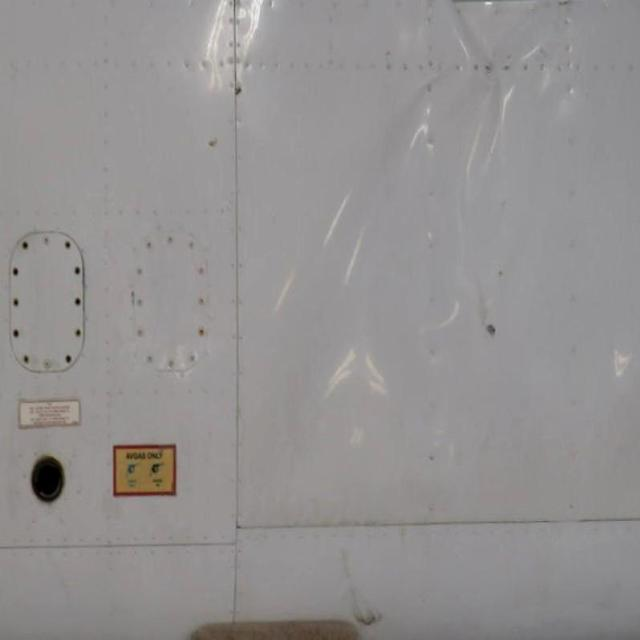Dent: (424, 6, 511, 192)
